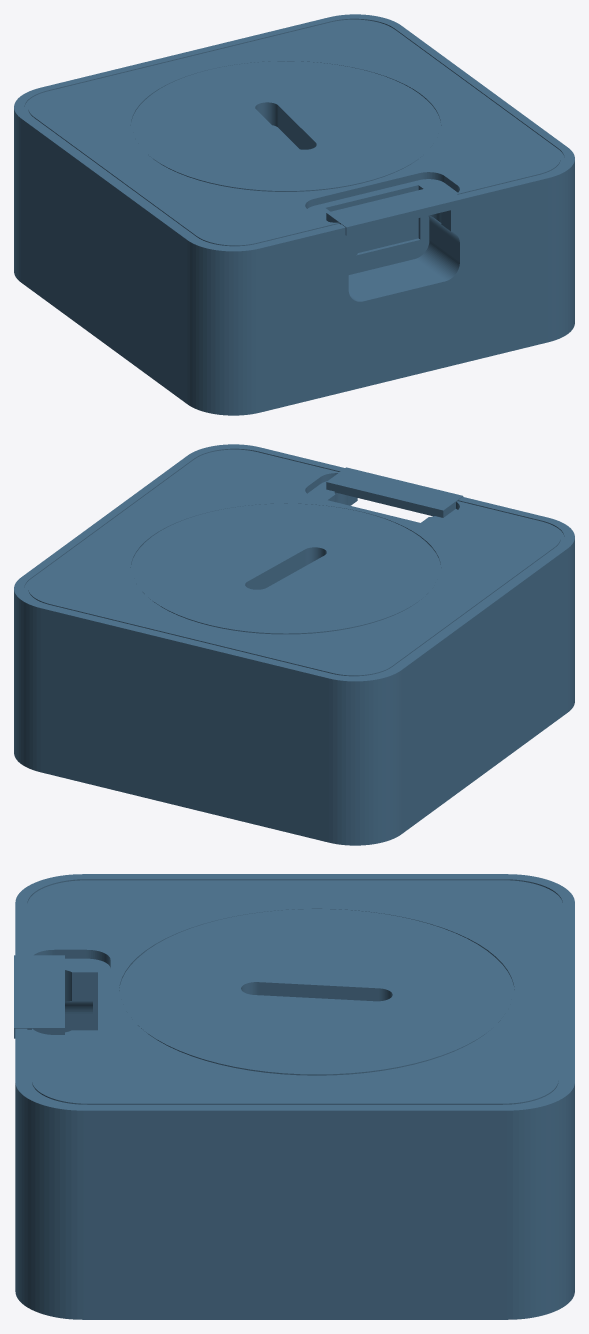
File: htpxw_sensor_v25_3.obj
3 renders of one model, top to bottom at view 1: azimuth 30°, elevation 25°; view 2: azimuth 150°, elevation 25°; view 3: azimuth 270°, elevation 25°, orthographic. The views are drawn at different scales.
Parts seen in each view (by area): view 1: BodyBlue; view 2: BodyBlue; view 3: BodyBlue.
Boxes of the visible parts, x1,y1,x2,y2 form: BodyBlue: [14, 14, 574, 415]; BodyBlue: [14, 444, 574, 845]; BodyBlue: [14, 874, 574, 1319].
Size of the model in its own units: 40 by 16.59 by 40.1.
